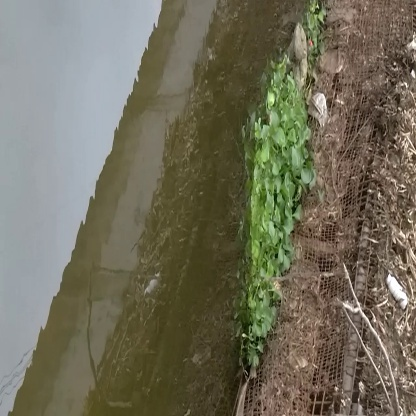grass: (248, 113, 296, 307)
